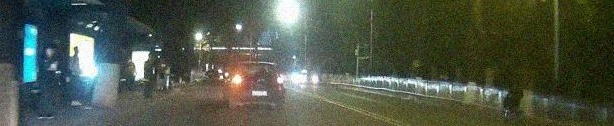L_light: (230, 77, 245, 84)
R_light: (272, 77, 284, 84)
T_light: (253, 63, 262, 65)
night-left: (228, 61, 285, 112)
